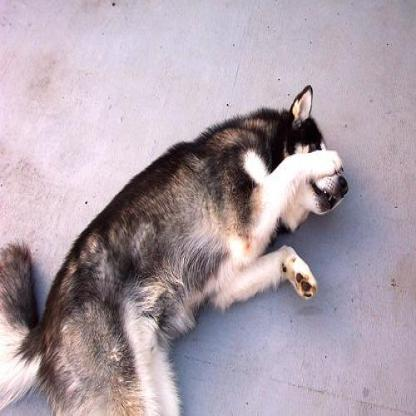malamute: (0, 85, 349, 414)
